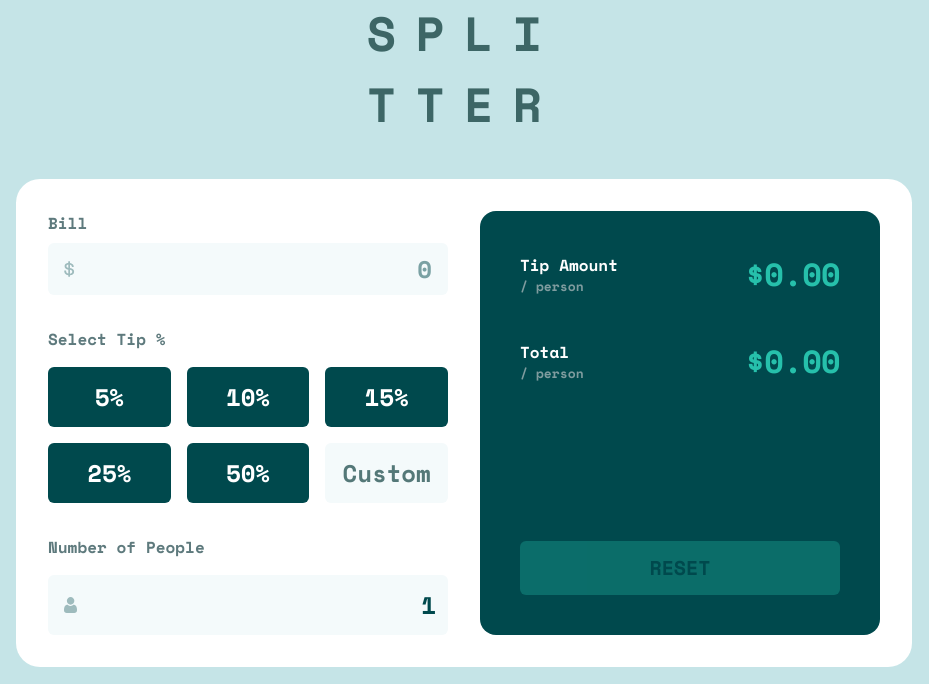
Test case: resets the application when reset button is clicked
Type "100" into the number field labelled "Bill" at (248, 269), box [48,243,448,295]
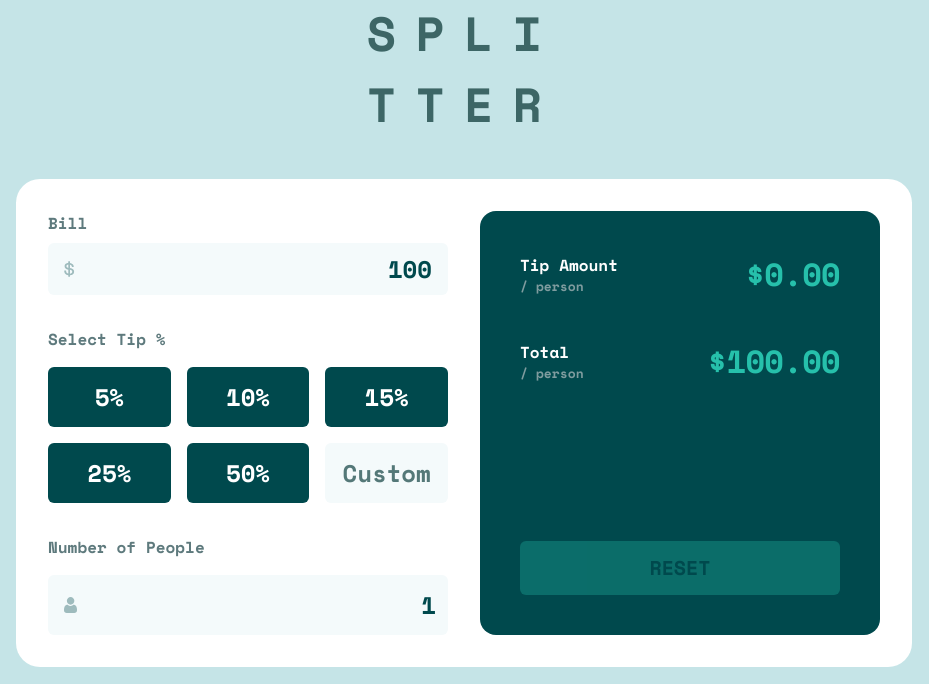
Click the button "Reset" at (680, 568), box [520,541,840,595]
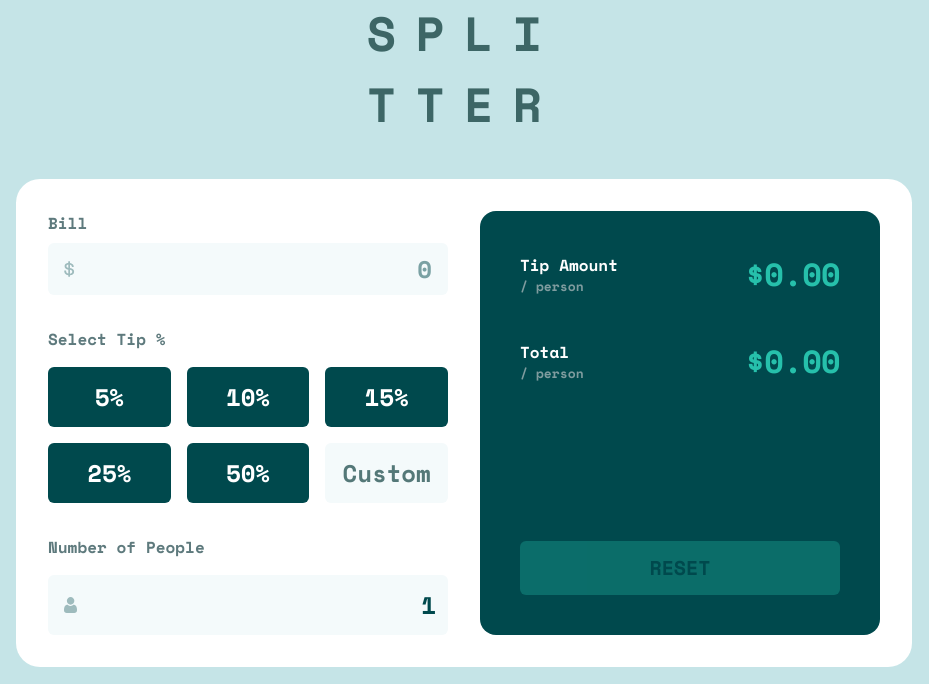
Check: the text "$0.00" next to "Tip Amount" is shown, box [745,251,840,298]
Check: the number field labelled "Bill" is empty, box [48,243,448,295]
